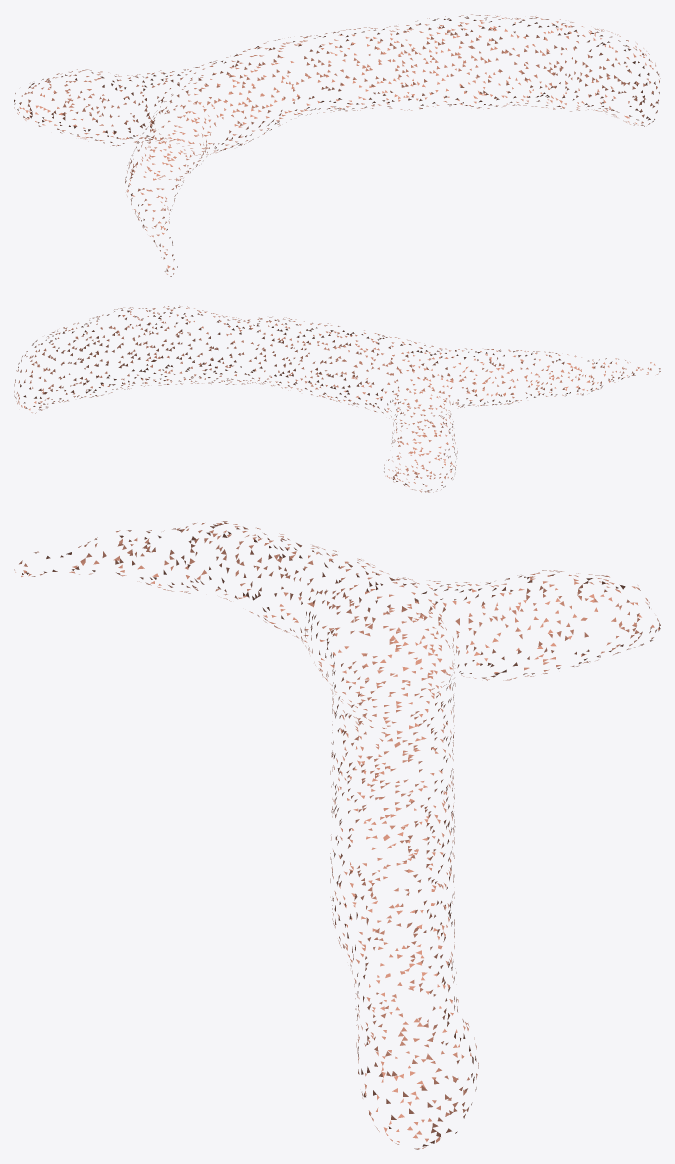
The model's file is morph_003.glb.
The picture shows the model from 3 angles, top to bottom: view 1: azimuth 30°, elevation 25°; view 2: azimuth 150°, elevation 25°; view 3: azimuth 270°, elevation 25°; orthographic projection. The views are drawn at different scales.
Bounding box in the file's own units: 124 × 33 × 75.84.
